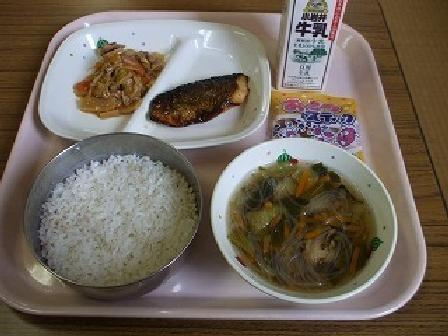Fish: (139, 64, 260, 134)
Milk: (270, 0, 353, 100)
Rice: (31, 140, 197, 293)
Soups: (224, 143, 388, 295)
vegetable based cooked food: (69, 36, 157, 112)
